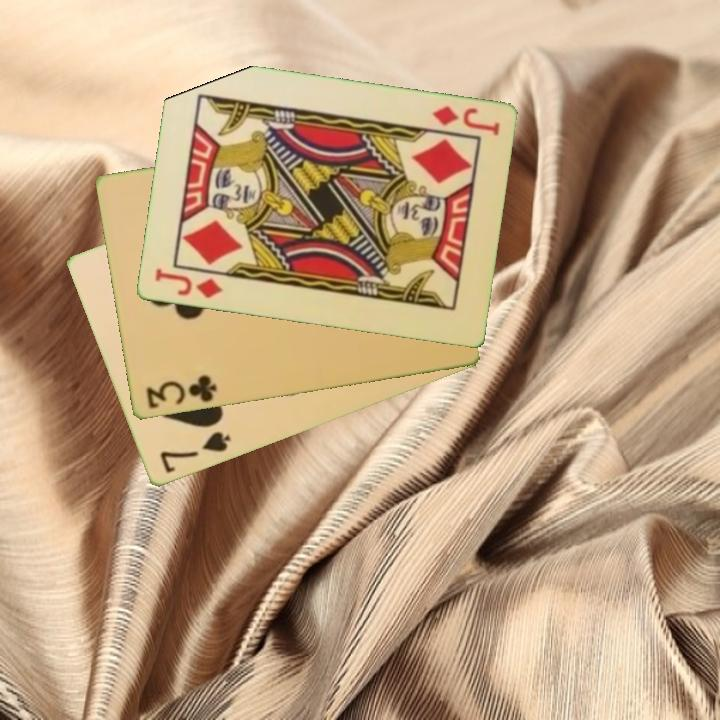3c: (142, 371, 220, 412)
7s: (156, 428, 234, 477)
Jd: (151, 265, 225, 302), (428, 102, 502, 139)
